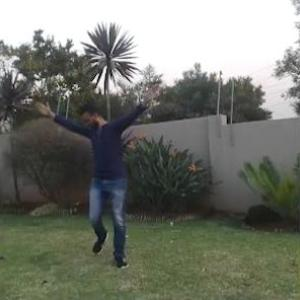takeoff: (30, 86, 176, 280)
